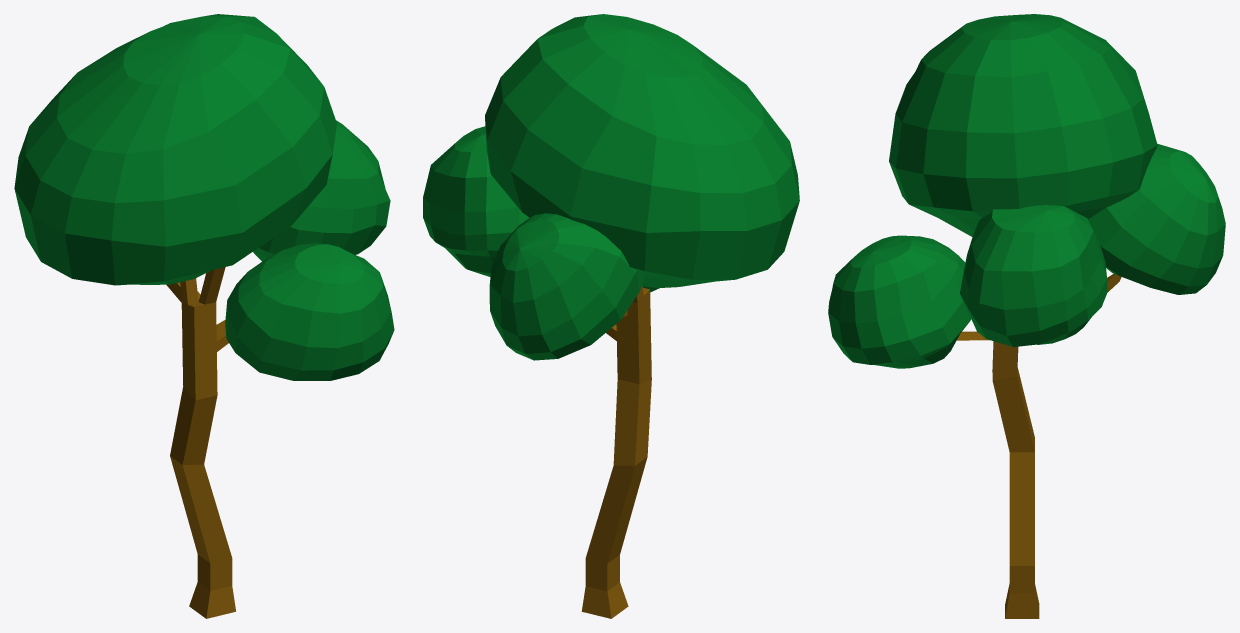
The model's file is tree_3.fbx.
3 renders of one model, left to right at view 1: azimuth 30°, elevation 25°; view 2: azimuth 150°, elevation 25°; view 3: azimuth 270°, elevation 25°, orthographic.
Parts seen in each view (by area): view 1: tree_3; view 2: tree_3; view 3: tree_3.
Part boxes in pixels (bbox=[...]): tree_3: bbox=[14, 14, 394, 618]; tree_3: bbox=[423, 14, 799, 618]; tree_3: bbox=[828, 14, 1225, 618].
Bounding box in the file's own units: 1883 × 3029 × 1873.
